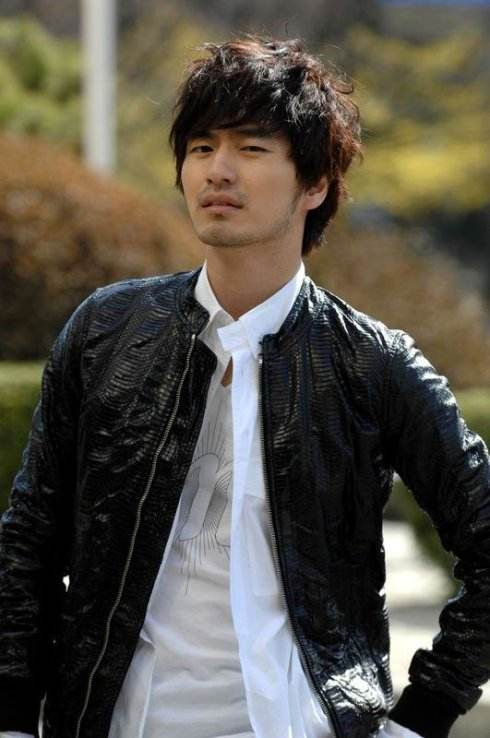person: (63, 44, 374, 615)
